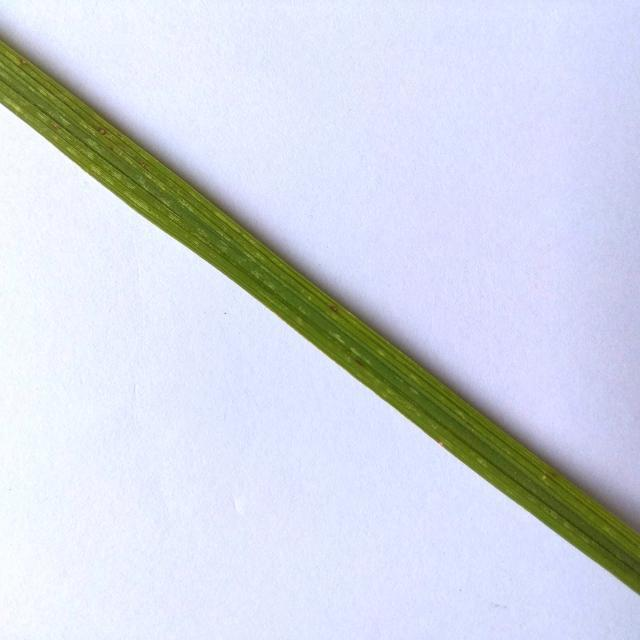Blast: (330, 303, 346, 319), (99, 120, 110, 138)
